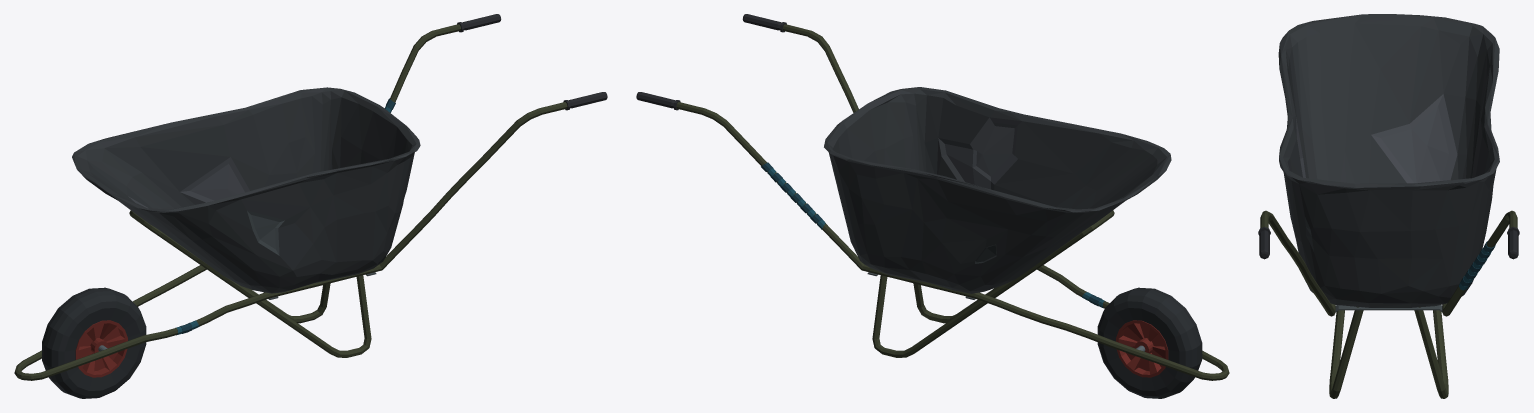
File: SM_Wheelbarrow .gltf
3 renders of one model, left to right at view 1: azimuth 30°, elevation 25°; view 2: azimuth 150°, elevation 25°; view 3: azimuth 270°, elevation 25°, orthographic. The views are drawn at different scales.
Visible parts, largest first — view 1: SM_Wheelbarrow, Wheelbarrow_Wheel; view 2: SM_Wheelbarrow, Wheelbarrow_Wheel; view 3: SM_Wheelbarrow.
Part boxes in pixels (x1,y1,x2,y2): SM_Wheelbarrow: [14, 14, 607, 380]; Wheelbarrow_Wheel: [42, 287, 146, 398]; SM_Wheelbarrow: [636, 14, 1229, 380]; Wheelbarrow_Wheel: [1097, 287, 1202, 398]; SM_Wheelbarrow: [1258, 14, 1519, 398].
Size of the model in its own units: 1.68 by 0.6954 by 0.6059.
